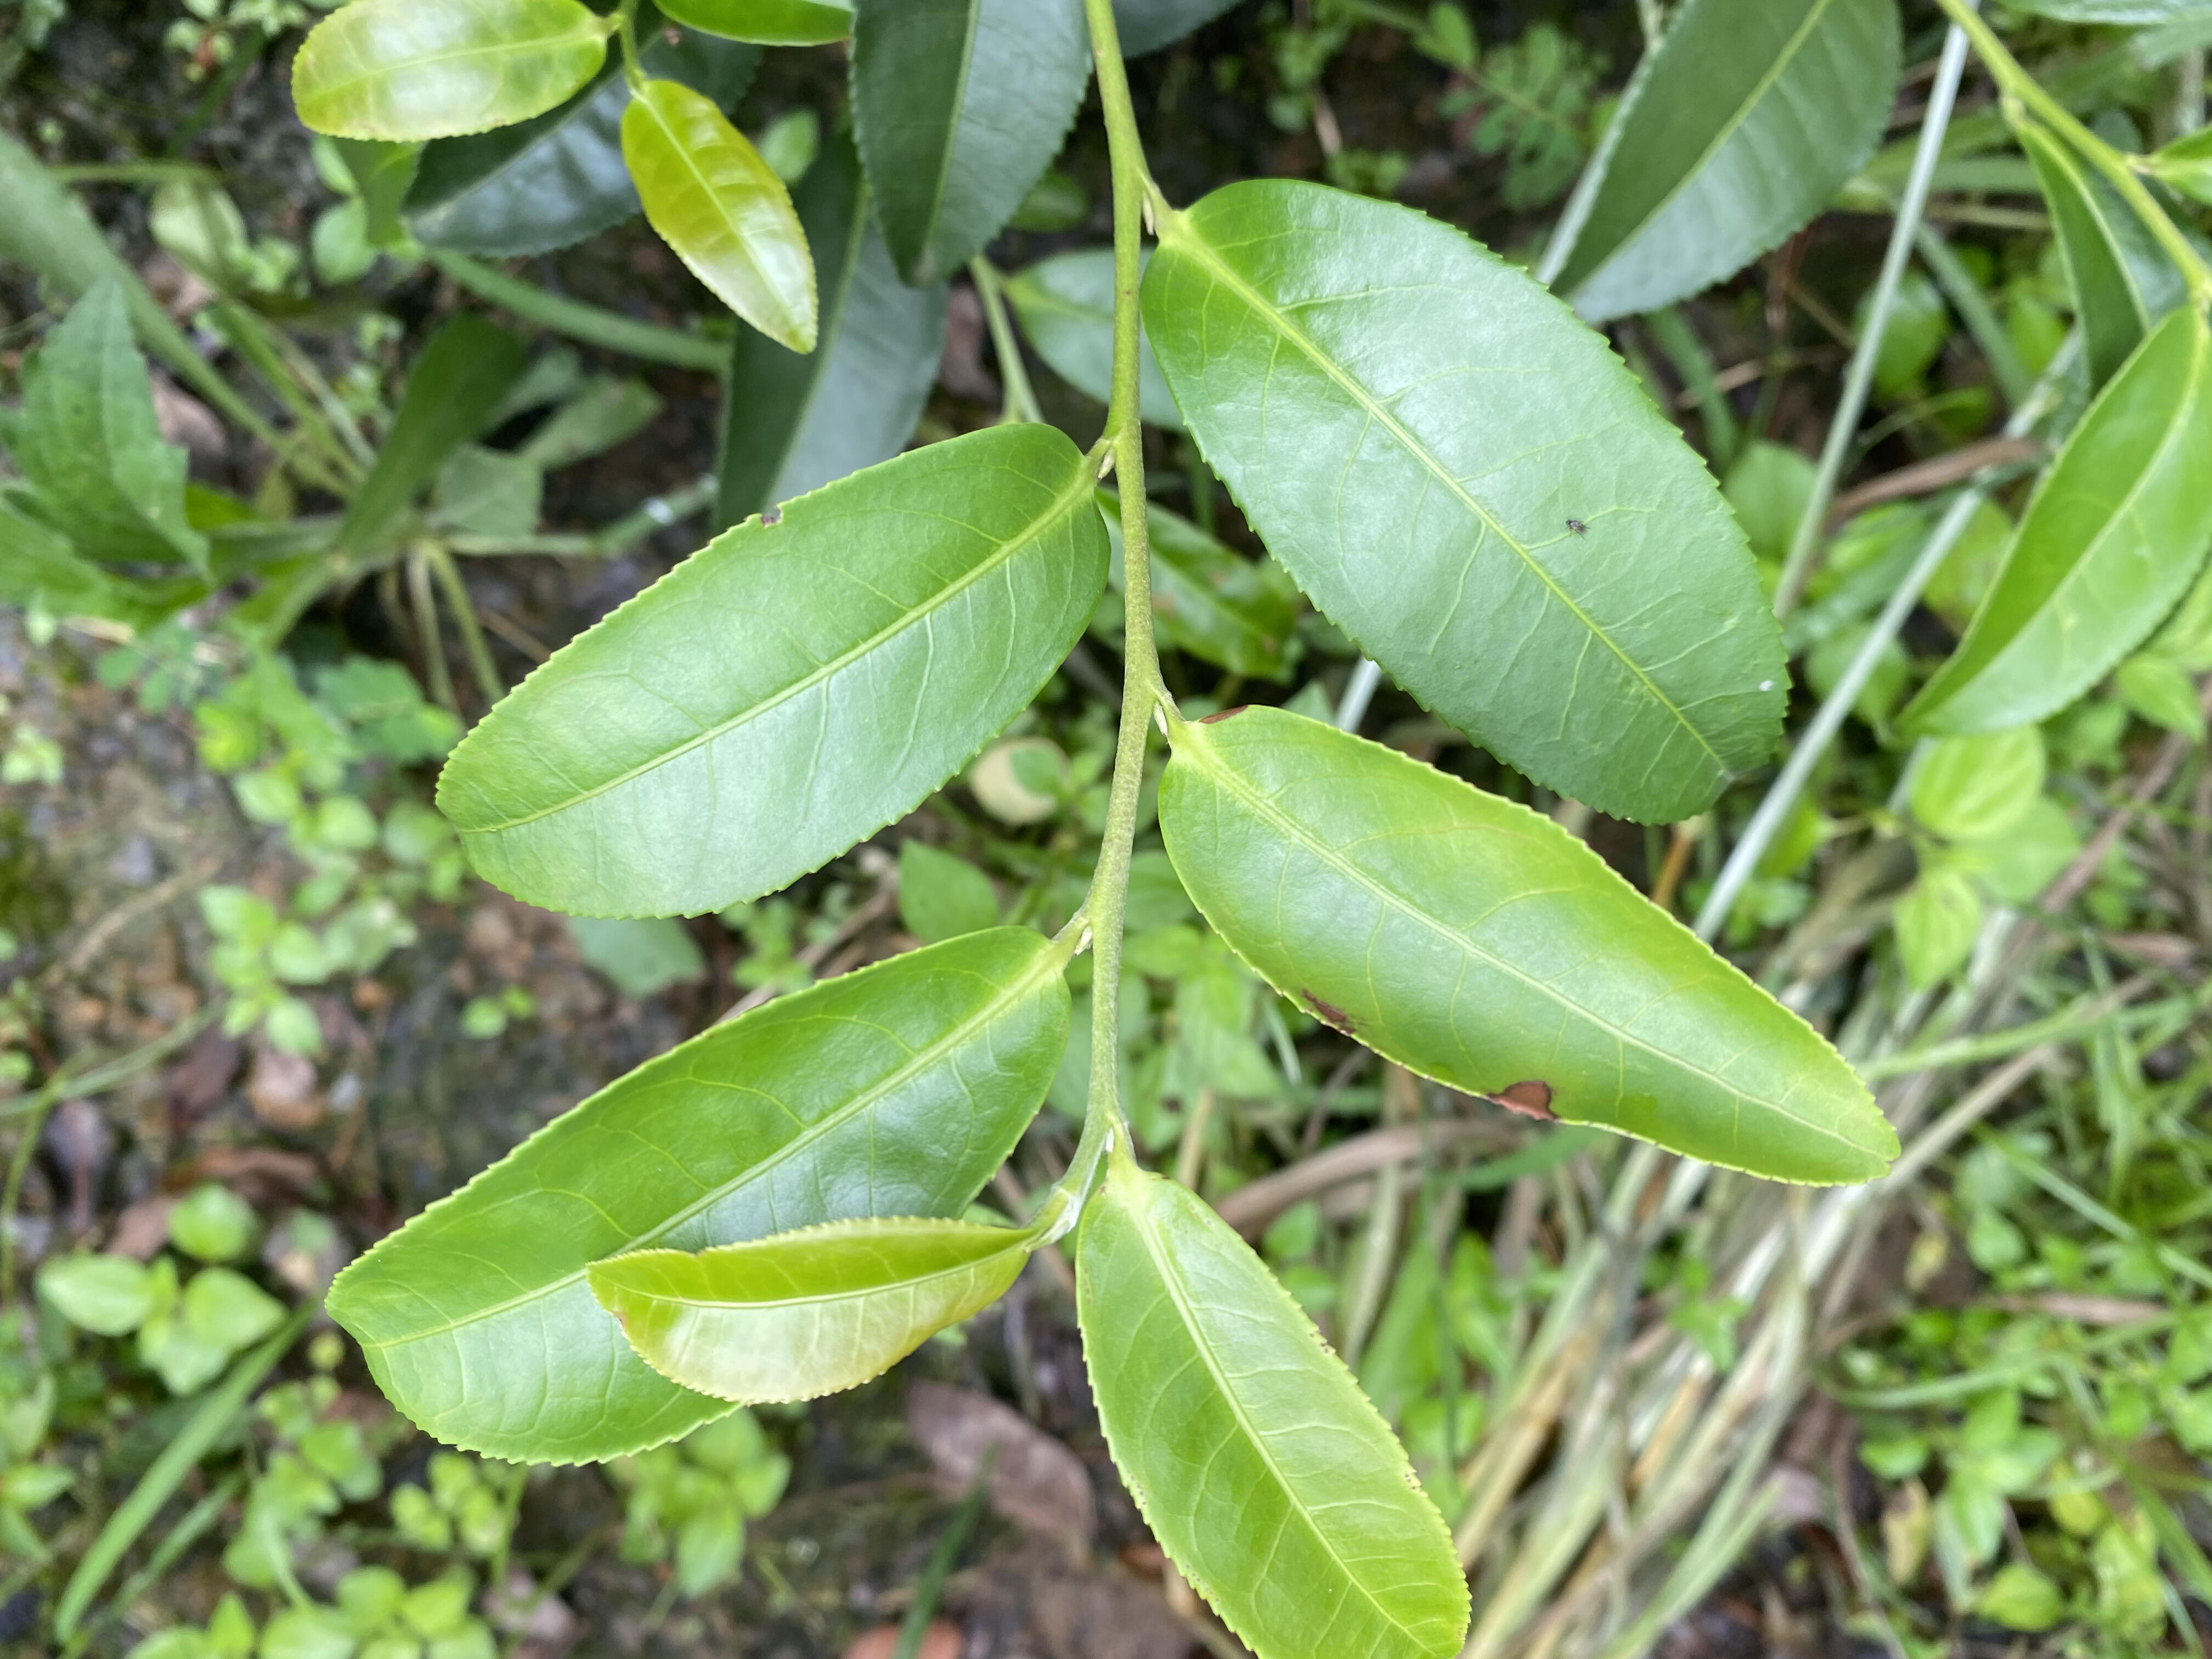healthy: (1141, 174, 1796, 830), (319, 924, 1071, 1471), (430, 420, 1113, 918), (1076, 1175, 1472, 1654), (1898, 298, 2207, 744), (615, 75, 822, 352), (287, 3, 603, 143)
tanju_low: (1155, 701, 1904, 1185), (587, 1213, 1045, 1408)
